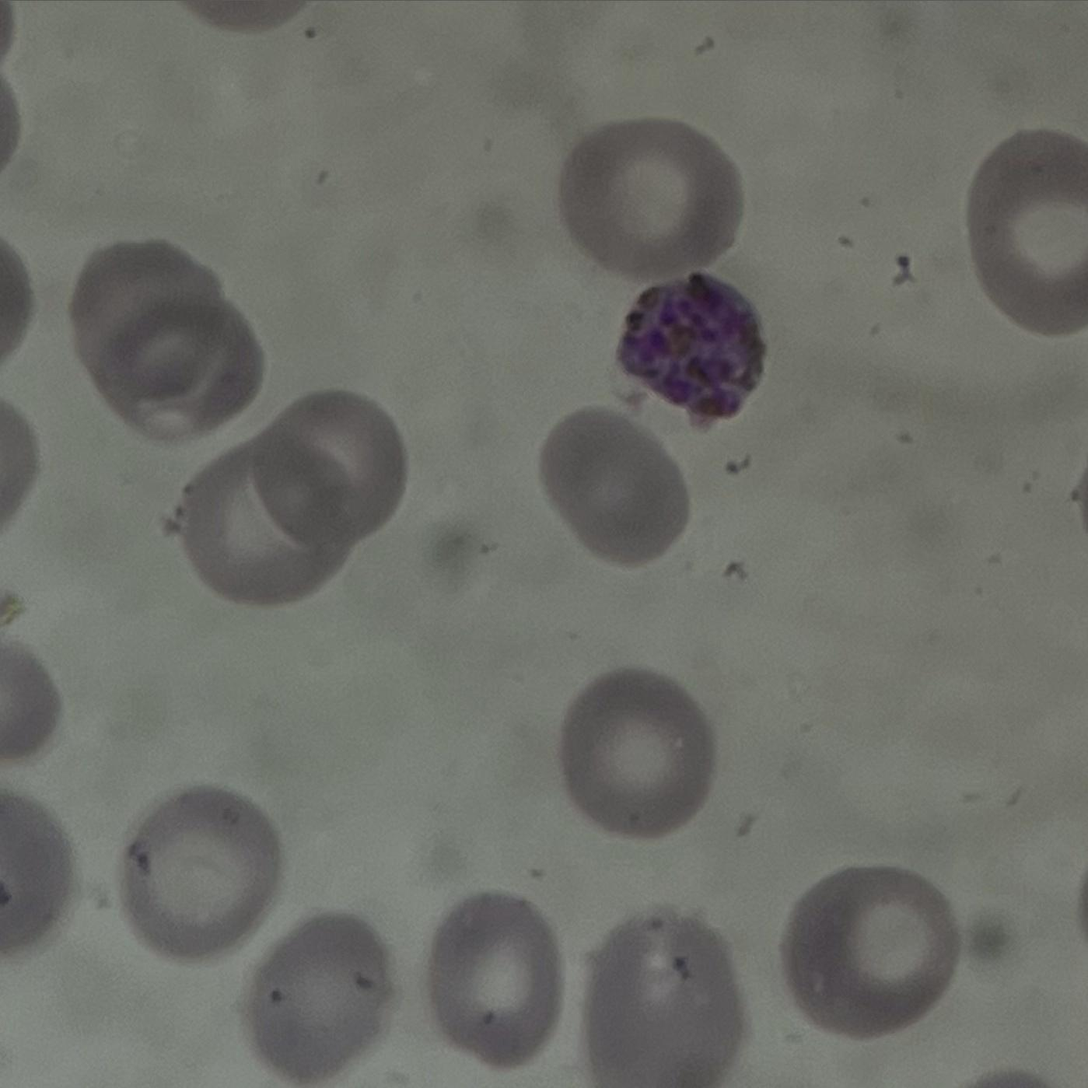Infected: (616, 276, 768, 422)
Uninfected: (782, 864, 958, 1037), (121, 786, 280, 960), (560, 121, 740, 274), (562, 669, 720, 838), (589, 912, 736, 1084), (428, 889, 566, 1069), (537, 405, 694, 563), (247, 910, 387, 1083), (966, 133, 1088, 330), (268, 389, 412, 555), (185, 446, 342, 594), (70, 240, 227, 386), (103, 304, 269, 440)
